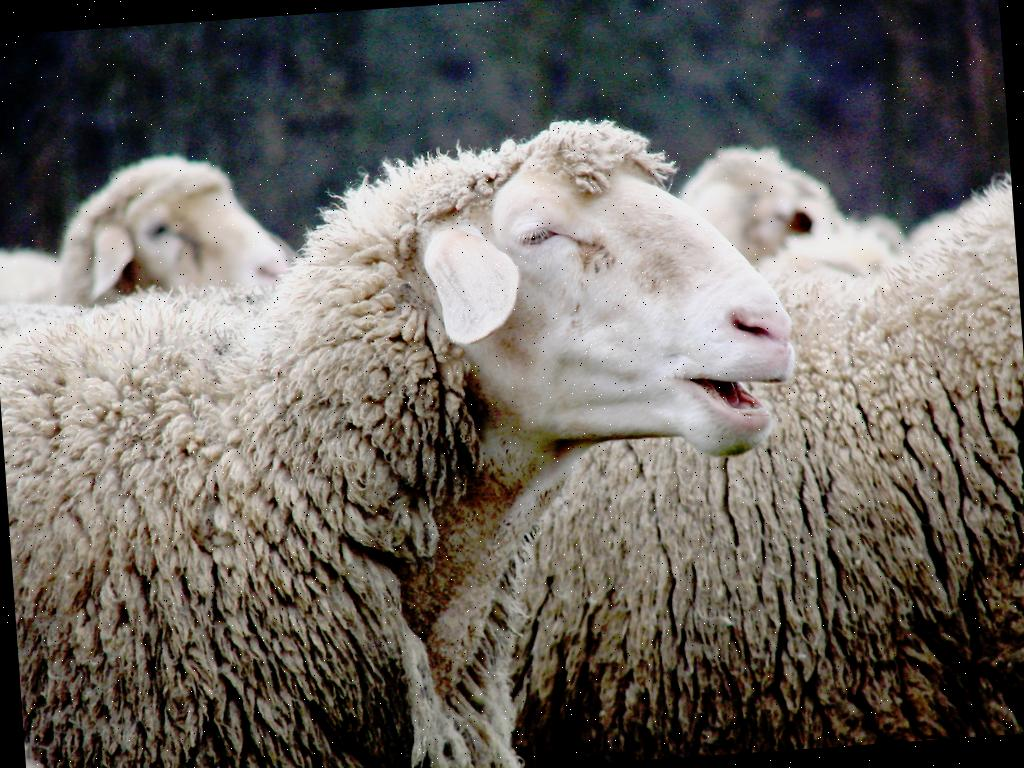Sheep: (0, 105, 822, 768), (480, 165, 1024, 767), (0, 146, 290, 312), (670, 137, 900, 288)
